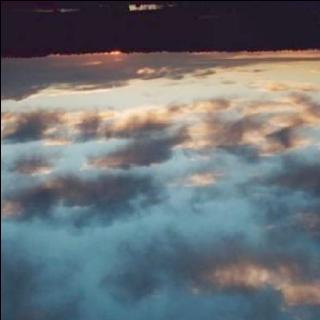Altostratus: (0, 49, 320, 320)
